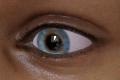eye: (37, 28, 69, 54)
